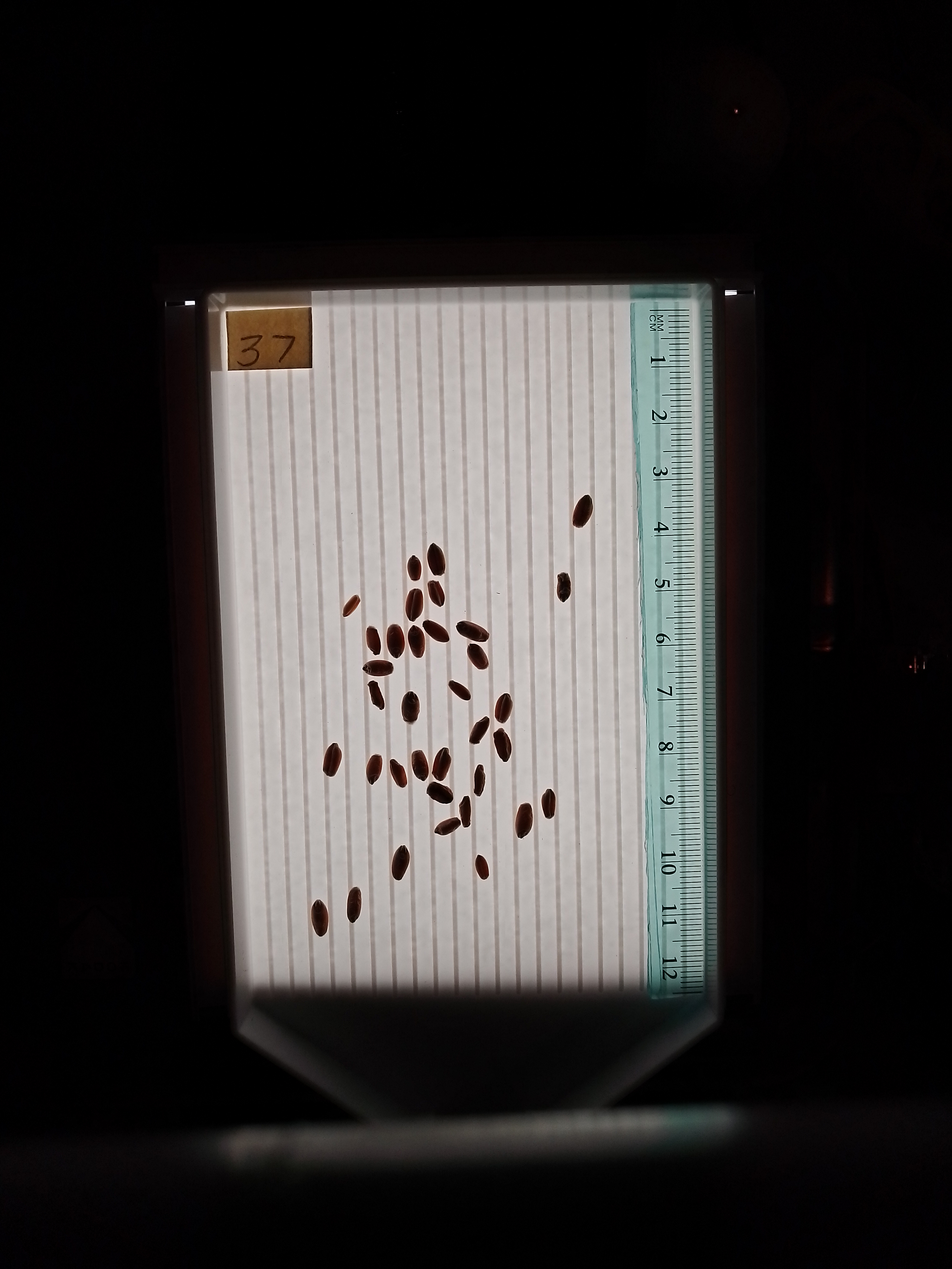seed mask: (572, 496, 594, 528), (457, 621, 489, 642), (515, 803, 533, 838), (323, 744, 342, 777), (311, 901, 328, 936), (493, 730, 512, 761), (432, 748, 451, 779), (392, 846, 409, 880), (387, 625, 405, 657), (402, 692, 420, 723), (411, 750, 429, 781), (424, 620, 448, 643), (428, 545, 445, 576), (406, 589, 423, 620), (408, 627, 425, 658), (428, 783, 453, 804), (364, 660, 393, 678), (470, 717, 489, 744), (495, 694, 513, 722), (366, 755, 383, 784), (468, 645, 488, 669), (368, 681, 385, 709), (347, 888, 361, 922), (390, 760, 407, 787), (435, 818, 459, 836), (366, 626, 381, 654), (459, 796, 472, 828), (428, 582, 445, 606), (473, 765, 486, 796), (449, 681, 470, 700), (557, 574, 571, 602), (542, 790, 556, 818), (343, 596, 360, 617), (407, 556, 422, 579), (476, 855, 489, 879)
